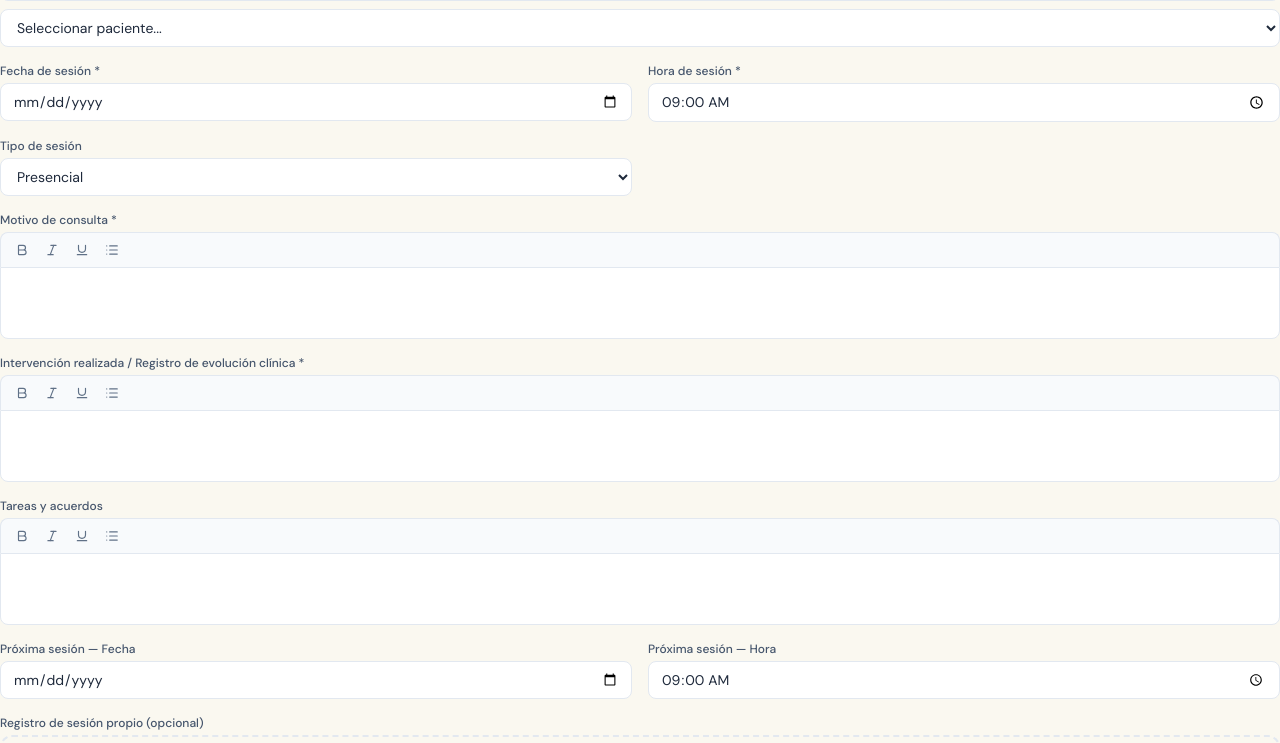
Scenario: ConsultationForm — validación de horas › una hora de próxima sesión inválida muestra el mensaje y no envía
The image size is (1280, 743).
Select "Paciente de Prueba — 11111111-1" in the dropdown labelled "Paciente *" at {"x": 640, "y": 28}, box [0,9,1279,47]
Type "2026-10-05" into the date field labelled "Fecha de sesión *".
click(316, 102); type("2026-10-05")  # box [0,83,632,121]
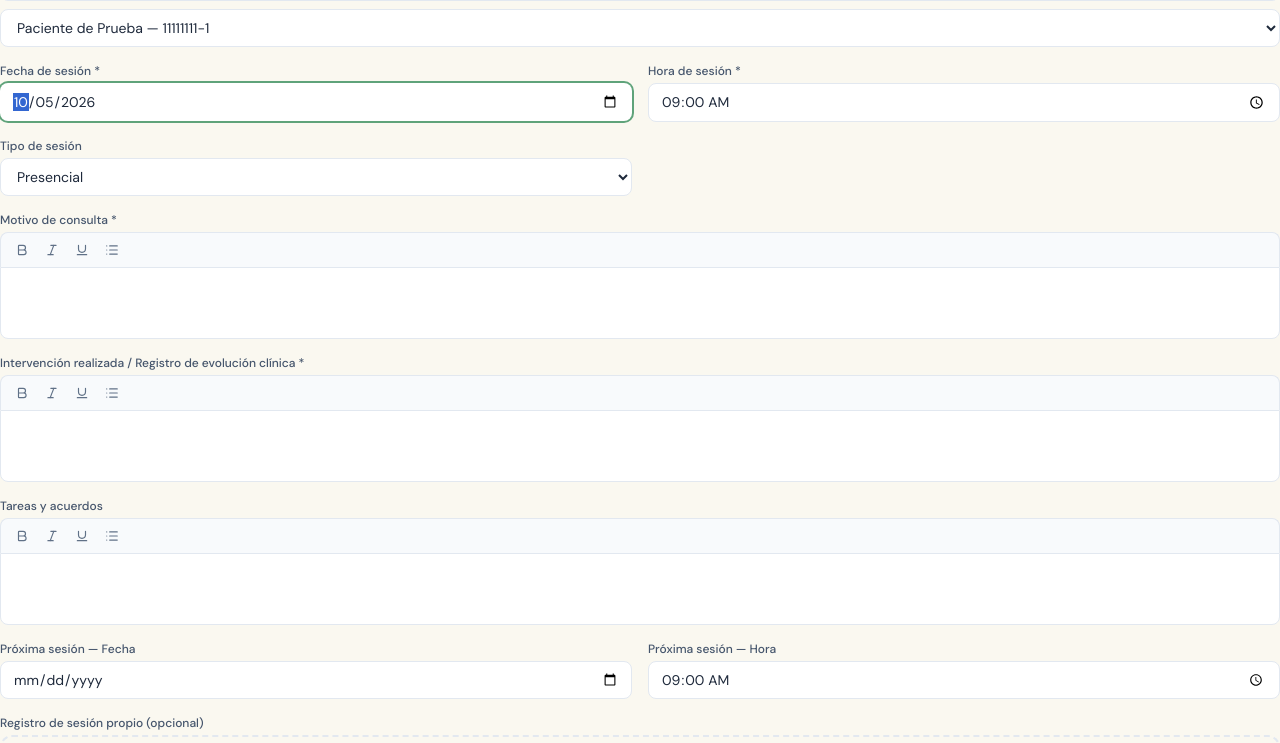
Type "Ansiedad" into the field named "Motivo de consulta".
click(640, 303); type("Ansiedad")  # box [0,267,1279,339]
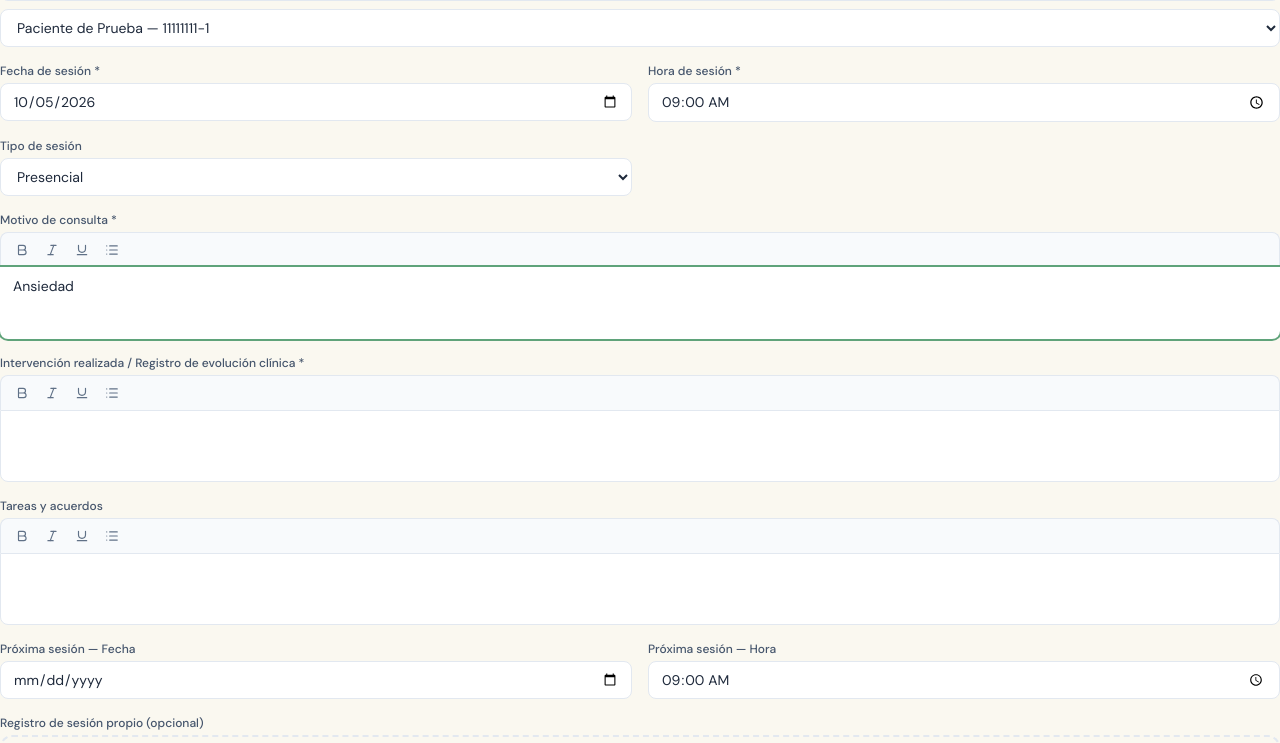
Type "Respiración" into the field named "Intervención realizada / Registro de evolución clínica".
click(640, 446); type("Respiración")  # box [0,410,1279,482]
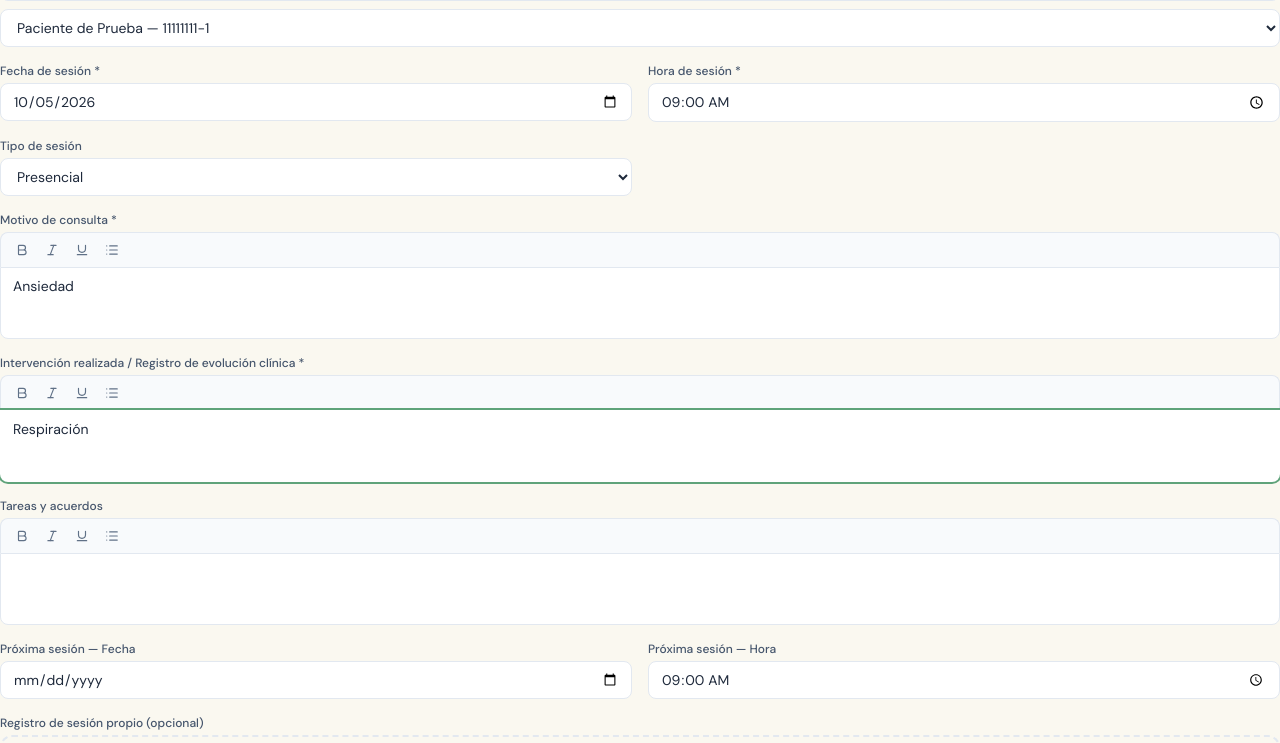
Type "2026-10-12" into the date field labelled "Próxima sesión — Fecha".
click(316, 680); type("2026-10-12")  # box [0,661,632,699]
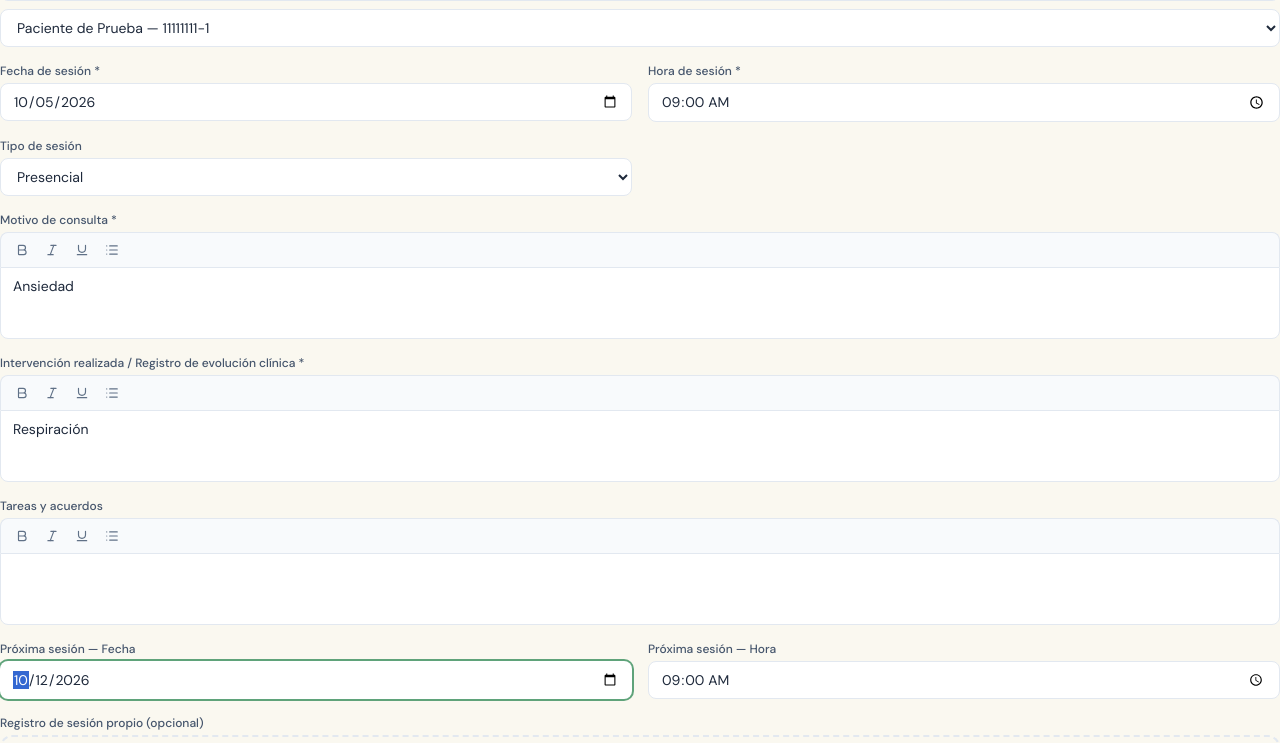
Clear the time field labelled "Próxima sesión — Hora" at {"x": 964, "y": 680}, box [648,661,1279,699]
(page scrolled)
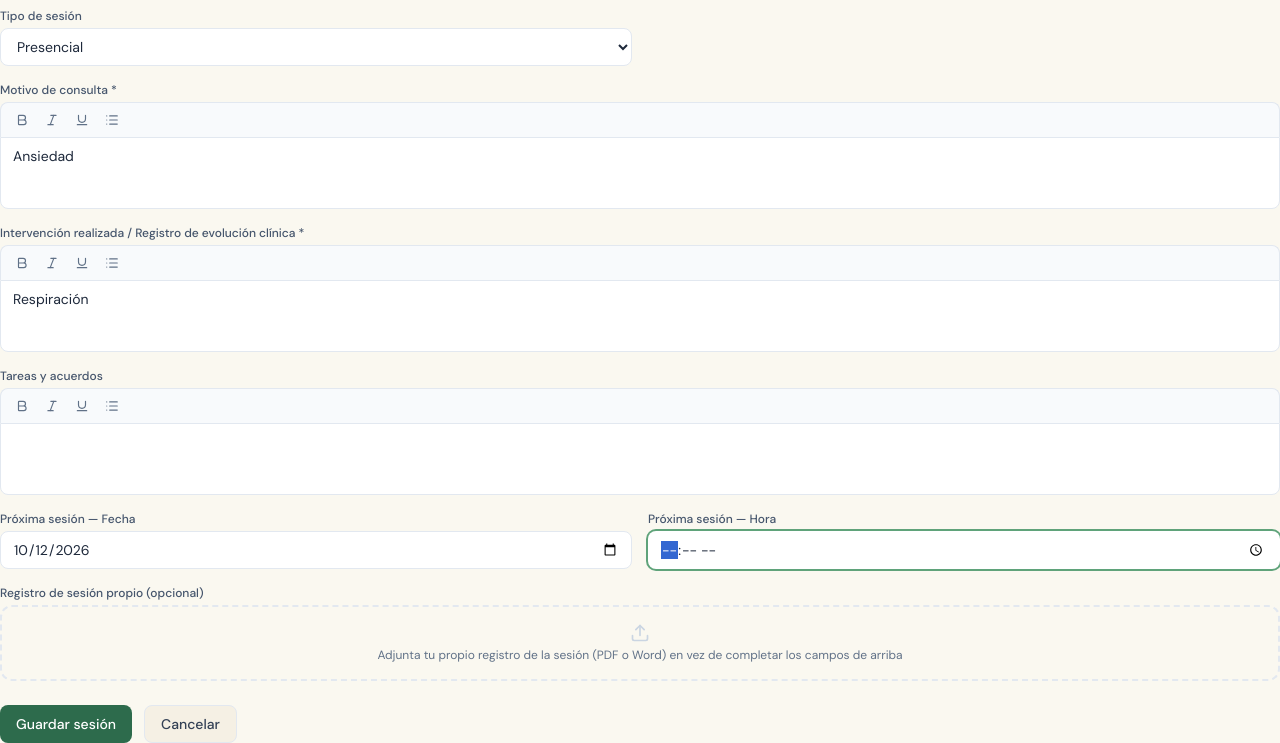
Click the button "Guardar sesión".
click(66, 724)  # box [0,705,132,742]
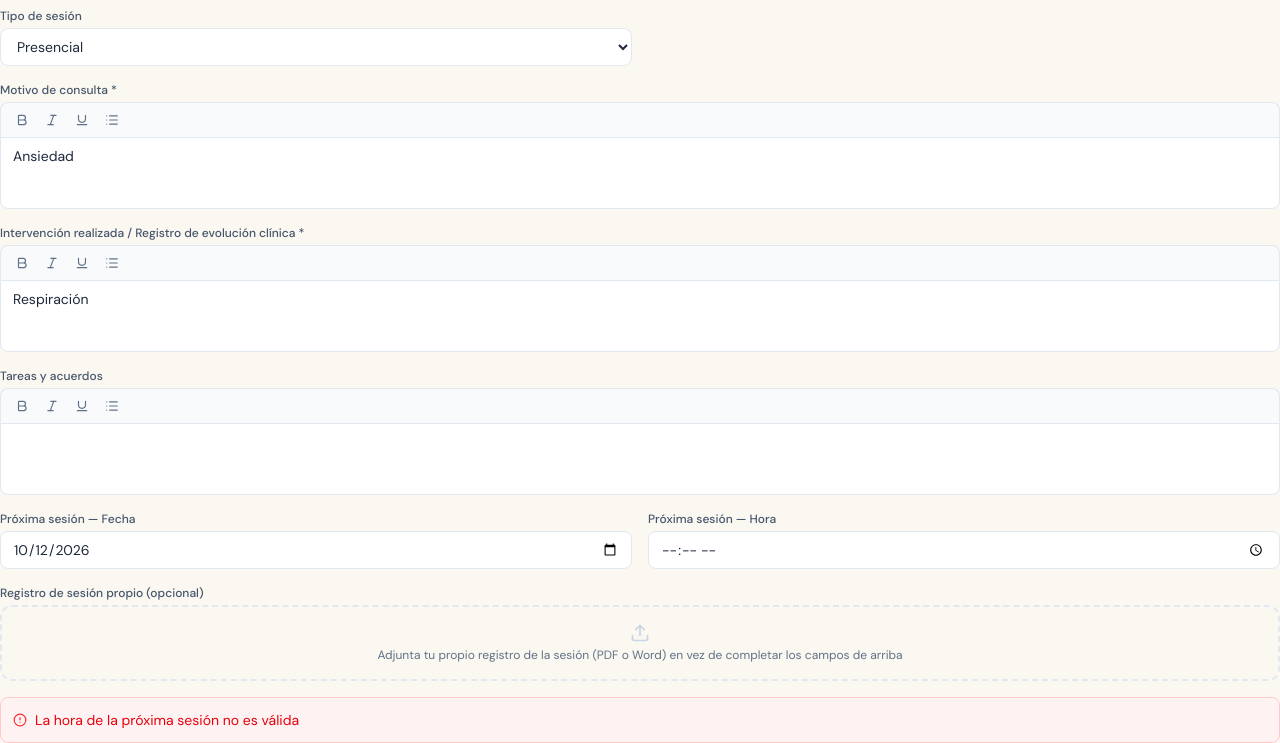
expect the text "La hora de la próxima sesión no es válida" is shown: met, box [35,710,299,730]
